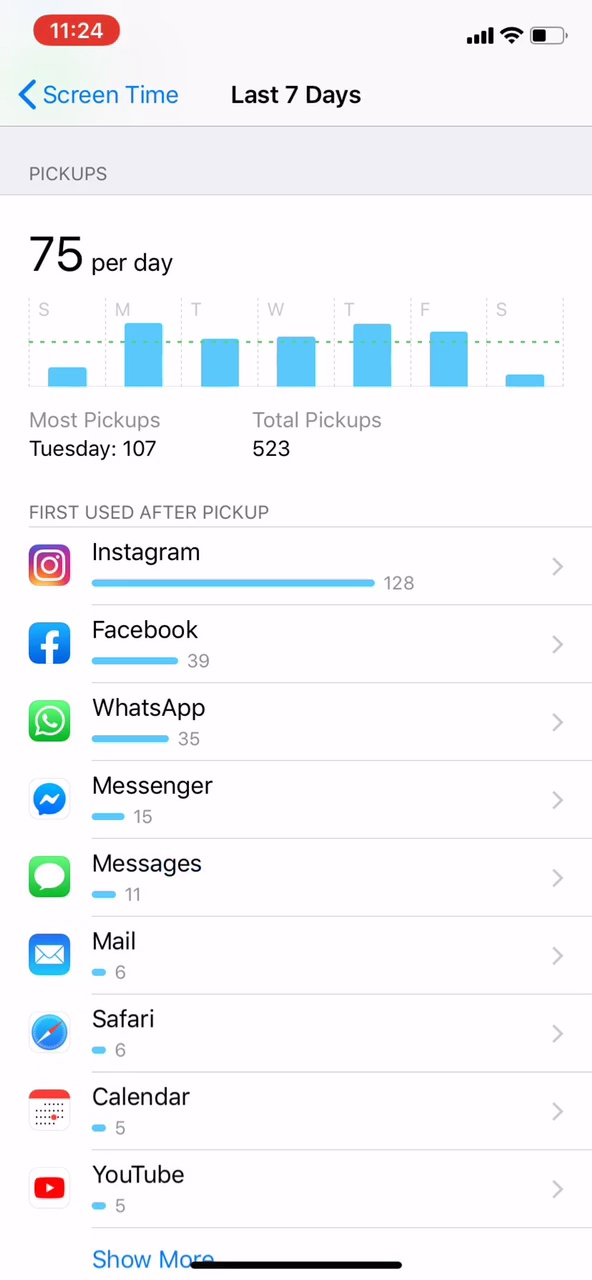pick_app: (23, 530, 437, 599), (18, 763, 259, 835), (15, 852, 254, 913), (18, 611, 234, 678), (14, 688, 236, 753), (17, 1157, 231, 1217), (15, 1082, 218, 1144), (17, 922, 176, 991), (18, 1003, 184, 1066)
pick_over: (25, 402, 437, 480)
week: (217, 77, 372, 118)
